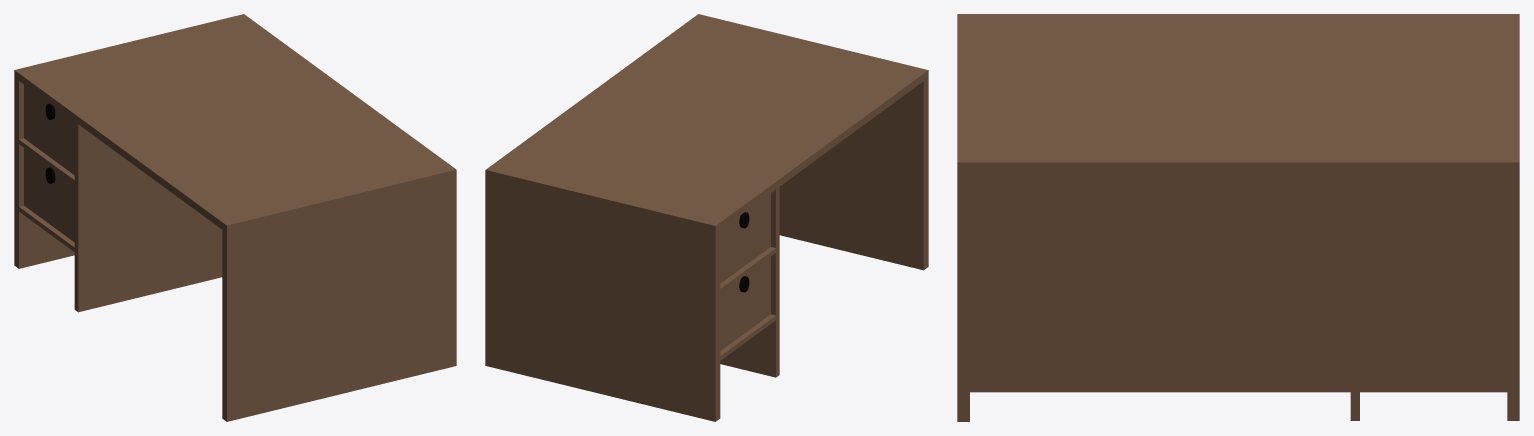
File: Table1.fbx
3 renders of one model, left to right at view 1: azimuth 30°, elevation 25°; view 2: azimuth 150°, elevation 25°; view 3: azimuth 270°, elevation 25°, orthographic. The views are drawn at different scales.
Visible parts, largest first — view 1: Cube; view 2: Cube; view 3: Cube.
Part boxes in pixels (x1=…): Cube: x1=14, y1=14, x2=456, y2=421; Cube: x1=485, y1=14, x2=928, y2=421; Cube: x1=957, y1=14, x2=1519, y2=421.
Size of the model in its own units: 224 by 183 by 359.
